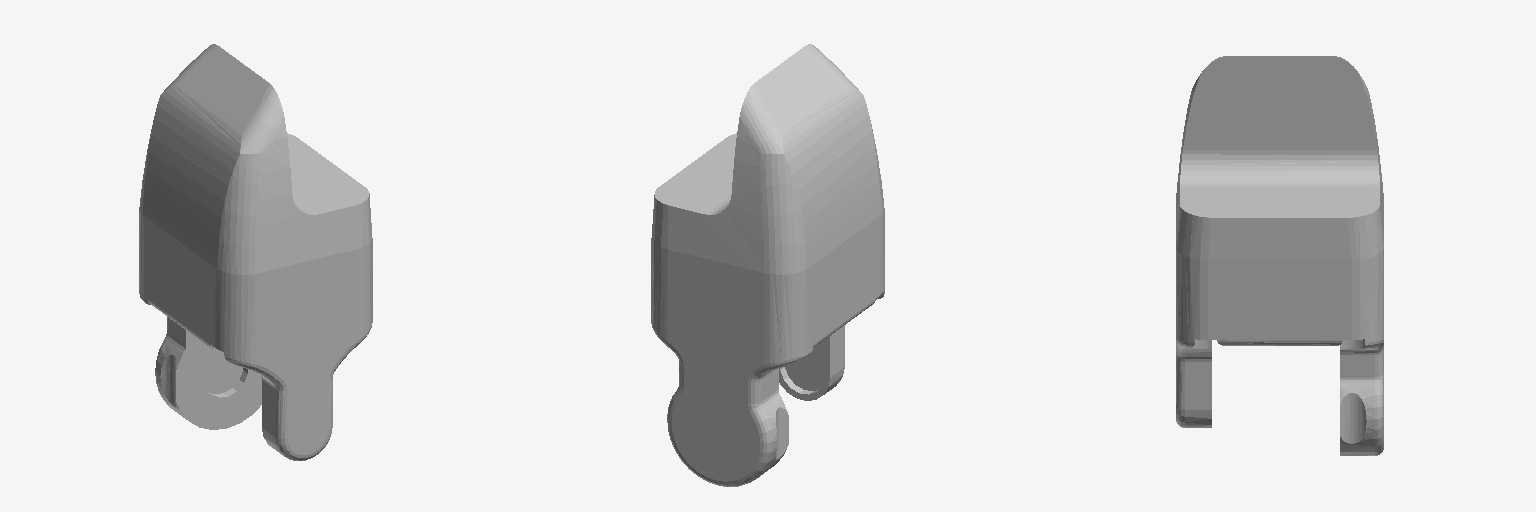
The model's file is tesollo_left_ll_dg_4_4_visuals_ll_dg_4_4_mesh.obj.
3 renders of one model, left to right at view 1: azimuth 30°, elevation 25°; view 2: azimuth 150°, elevation 25°; view 3: azimuth 270°, elevation 25°, orthographic.
Bounding box in the file's own units: 0.019 × 0.0462 × 0.0224.